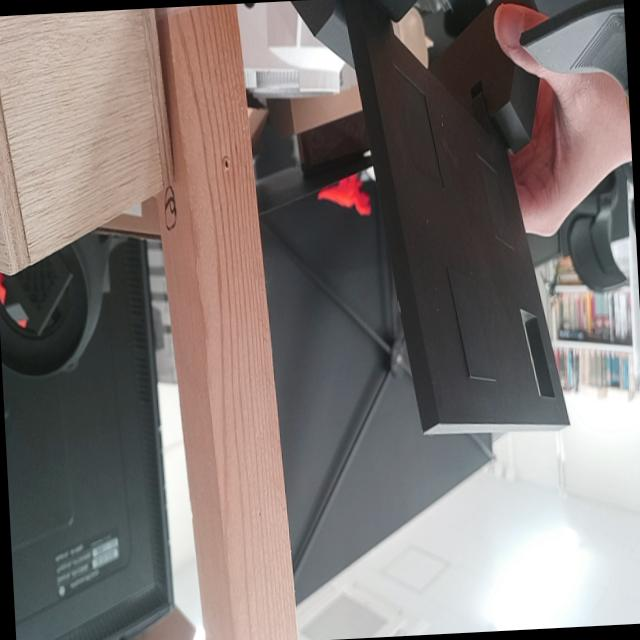Obstacle: (520, 312, 554, 399)
Wall: (365, 24, 569, 427)
